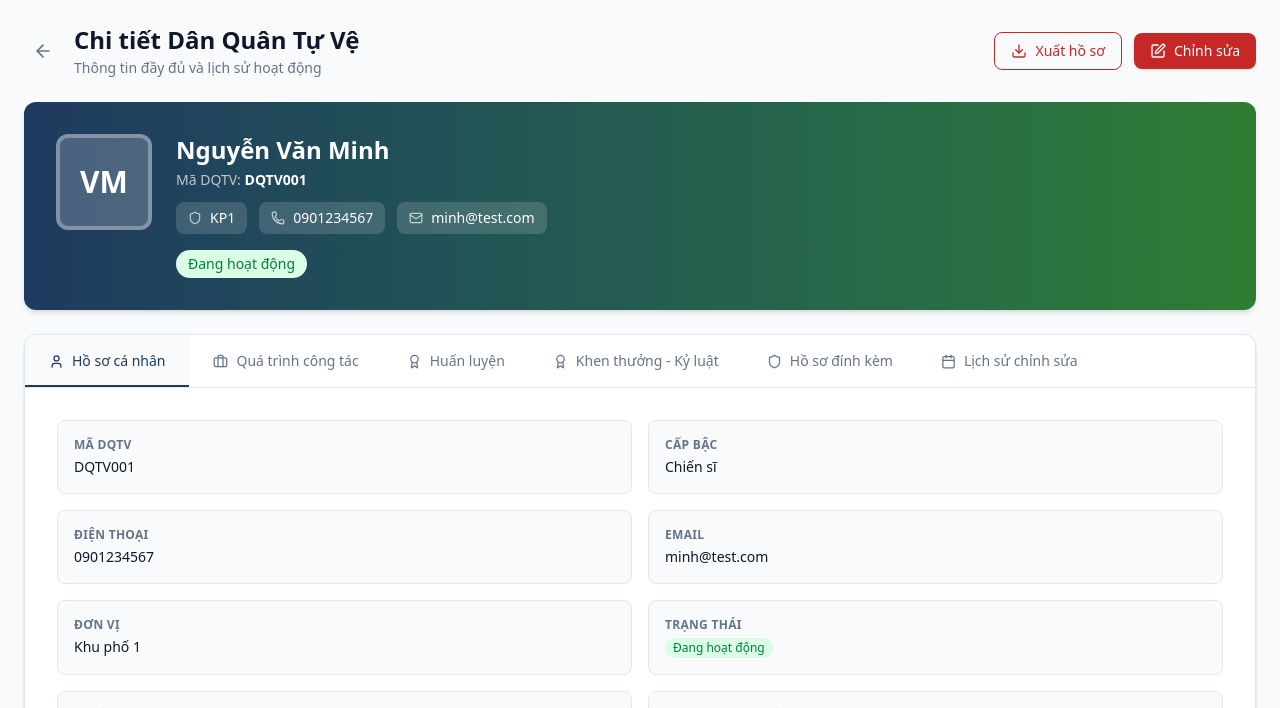
Test: MilitiaProfilePage › Training tab › renders training records table when data is present
Expected: the heading "Nguyễn Văn Minh" is shown, [176,133,389,166]
Click the button with test id "tab-training" at coordinates (456, 361), box [383,335,529,387]
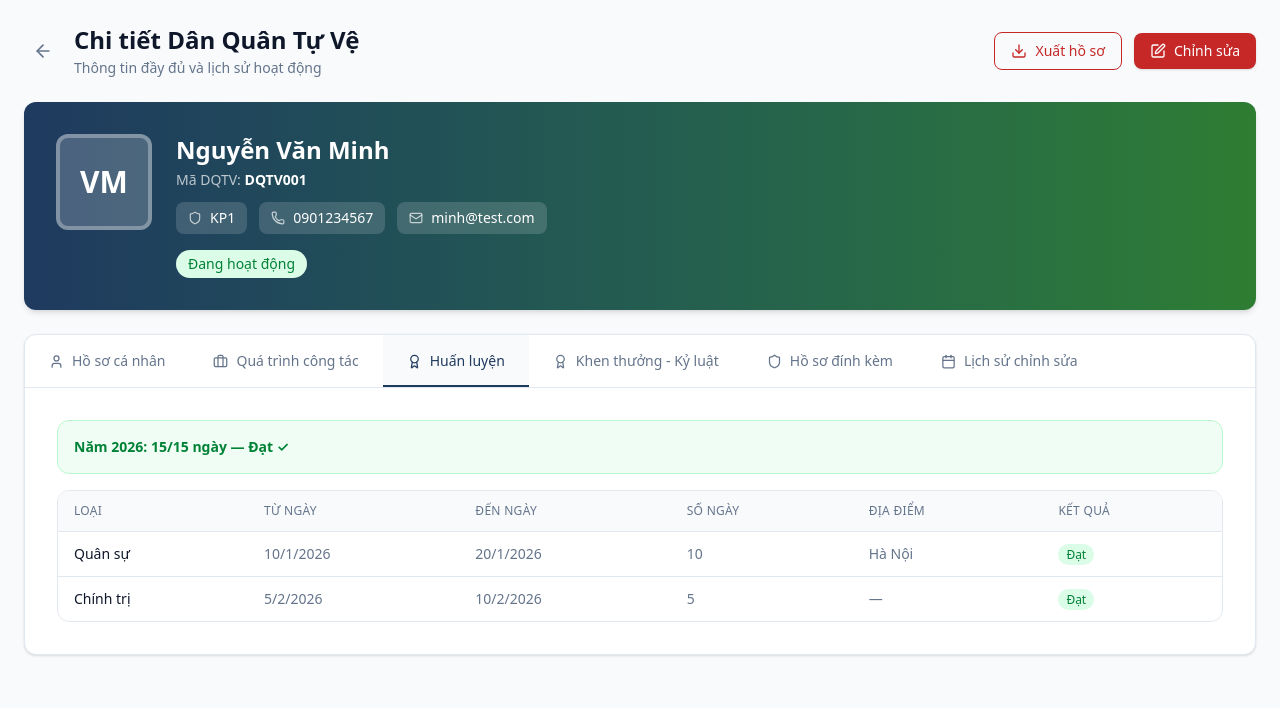
Expected: the table with test id "training-table" is shown, [58,491,1222,621]
